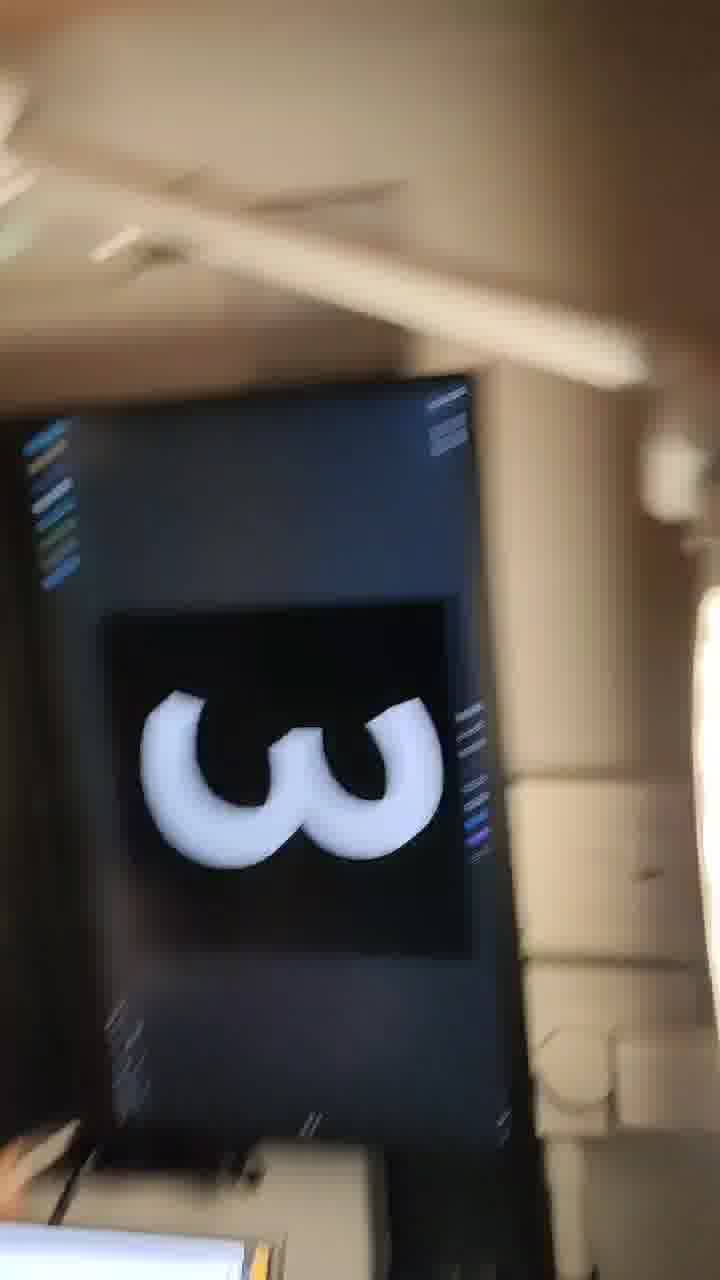three: (92, 625, 499, 907)
